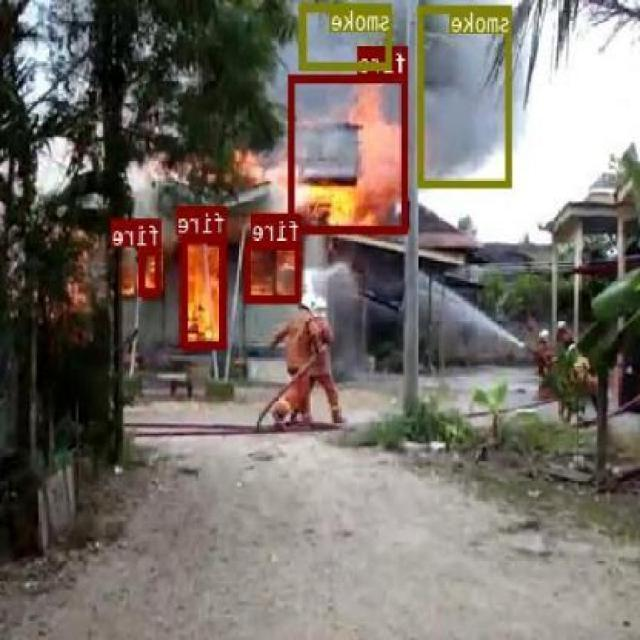Fire: (113, 220, 300, 333), (304, 90, 398, 212)
Smoke: (258, 0, 544, 173)
